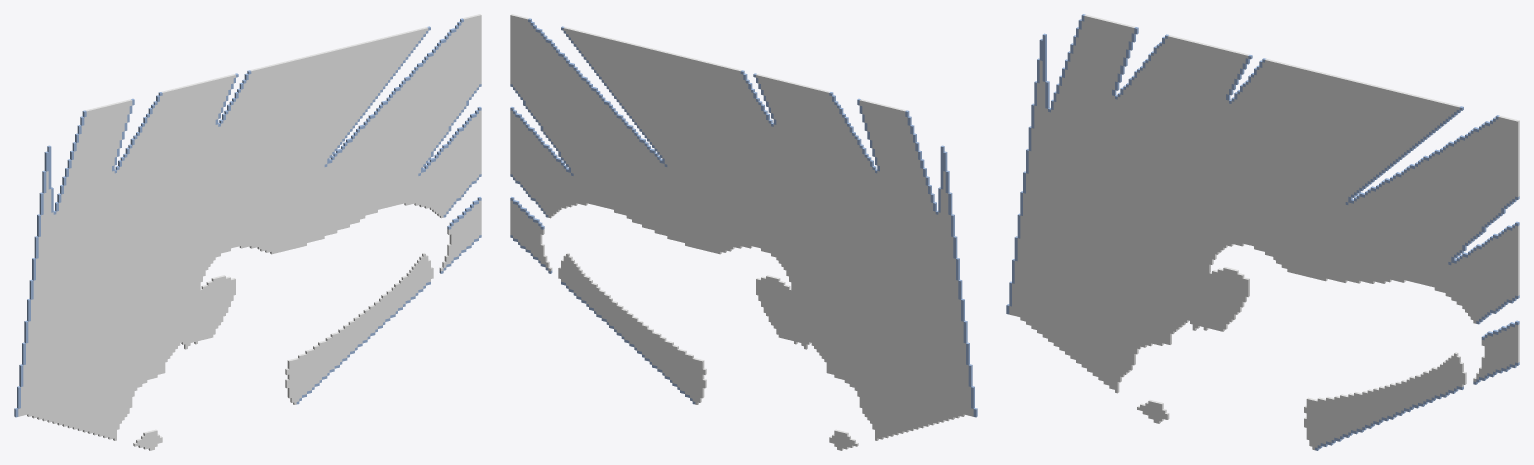
File: Fight_201_2_10_fx.obj
The picture shows the model from 3 angles, left to right: view 1: azimuth 30°, elevation 25°; view 2: azimuth 150°, elevation 25°; view 3: azimuth 330°, elevation 25°; orthographic projection. The views are drawn at different scales.
Bounding box in the file's own units: 18.4 × 13.4 × 0.1.
